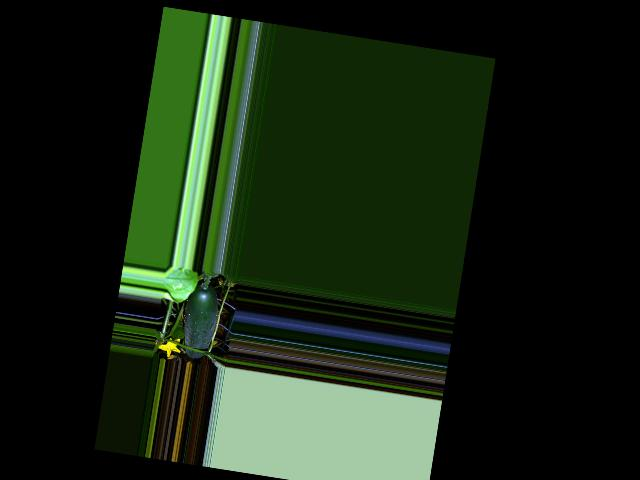cucumber: (178, 279, 222, 360)
